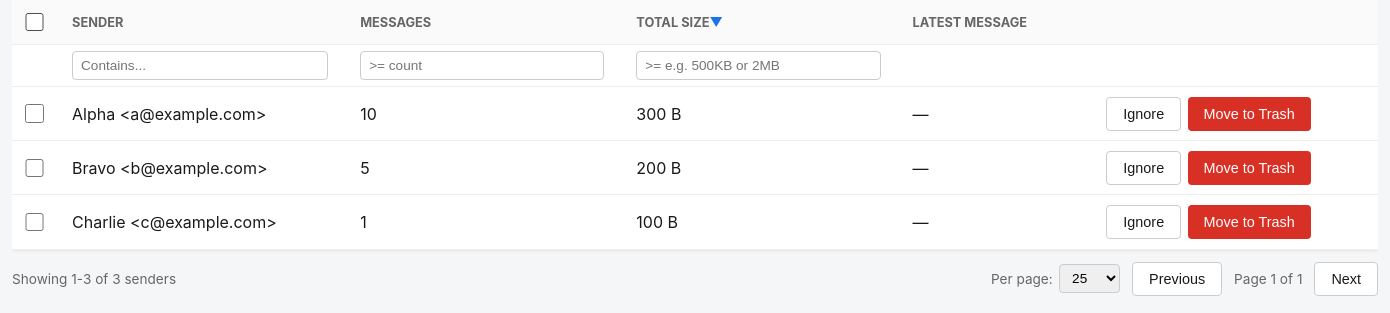
Test: sorting › sorts by Sender ascending then descending then back to the default on a third click
Click the column heading "Sender": (200, 22) x1=56 y1=0 x2=344 y2=44
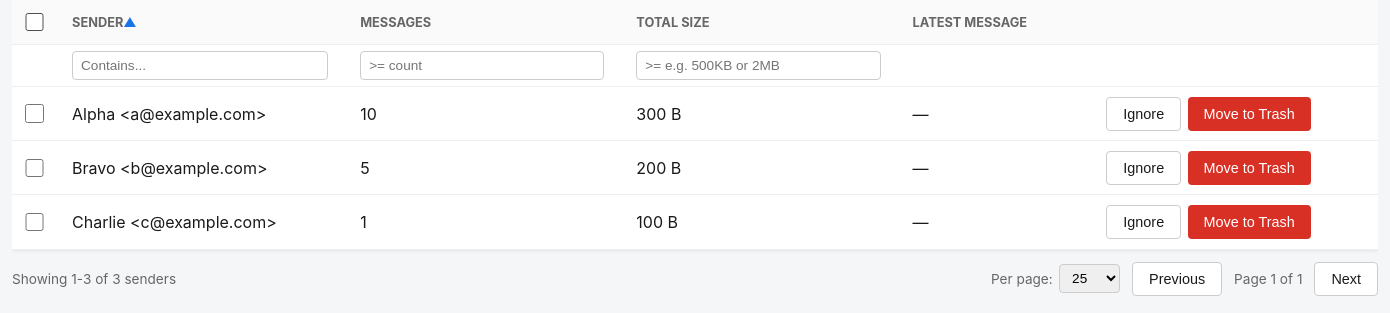
Now the text "▲" is shown, box x1=123 y1=14 x2=136 y2=30
Click the column heading "Sender": (200, 22) x1=56 y1=0 x2=344 y2=44
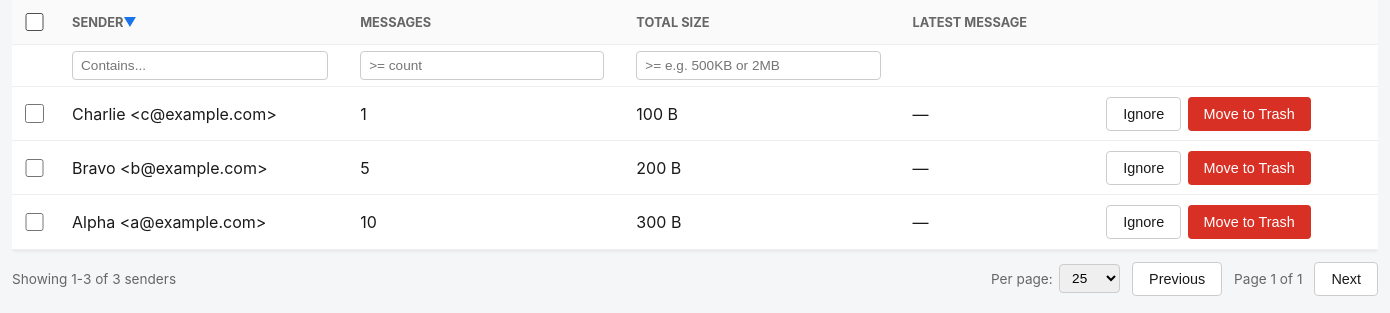
Now the text "▼" is shown, box x1=123 y1=14 x2=136 y2=30
Click the column heading "Sender": (200, 22) x1=56 y1=0 x2=344 y2=44
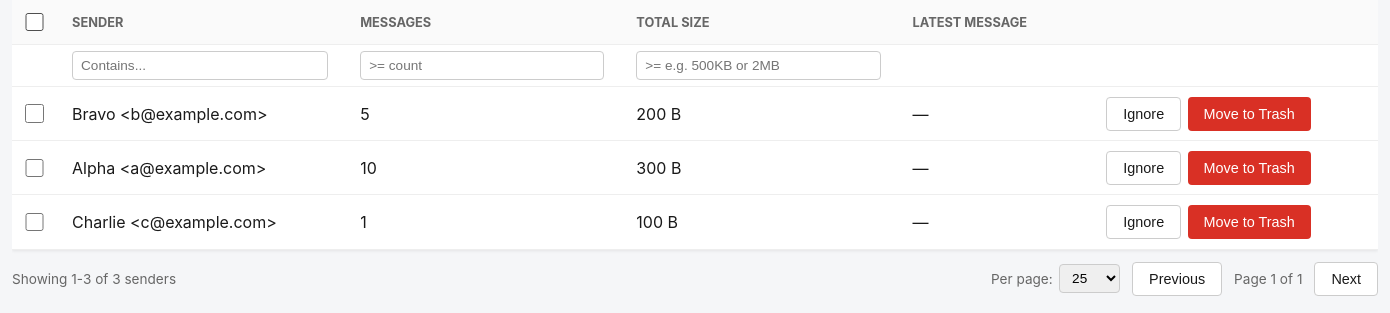
Note: A fourth click on the same column restarts the cycle at ascending.
Click the column heading "Sender": (200, 22) x1=56 y1=0 x2=344 y2=44
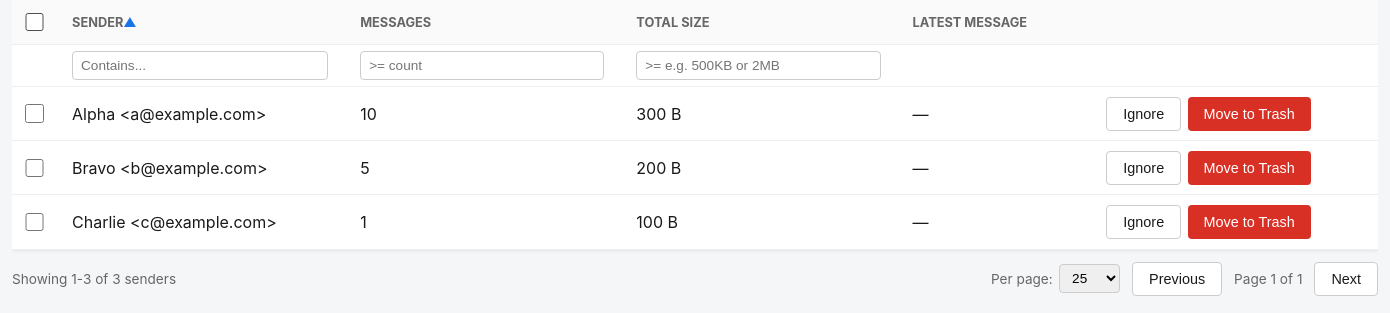
Now the text "▲" is shown, box x1=123 y1=14 x2=136 y2=30
